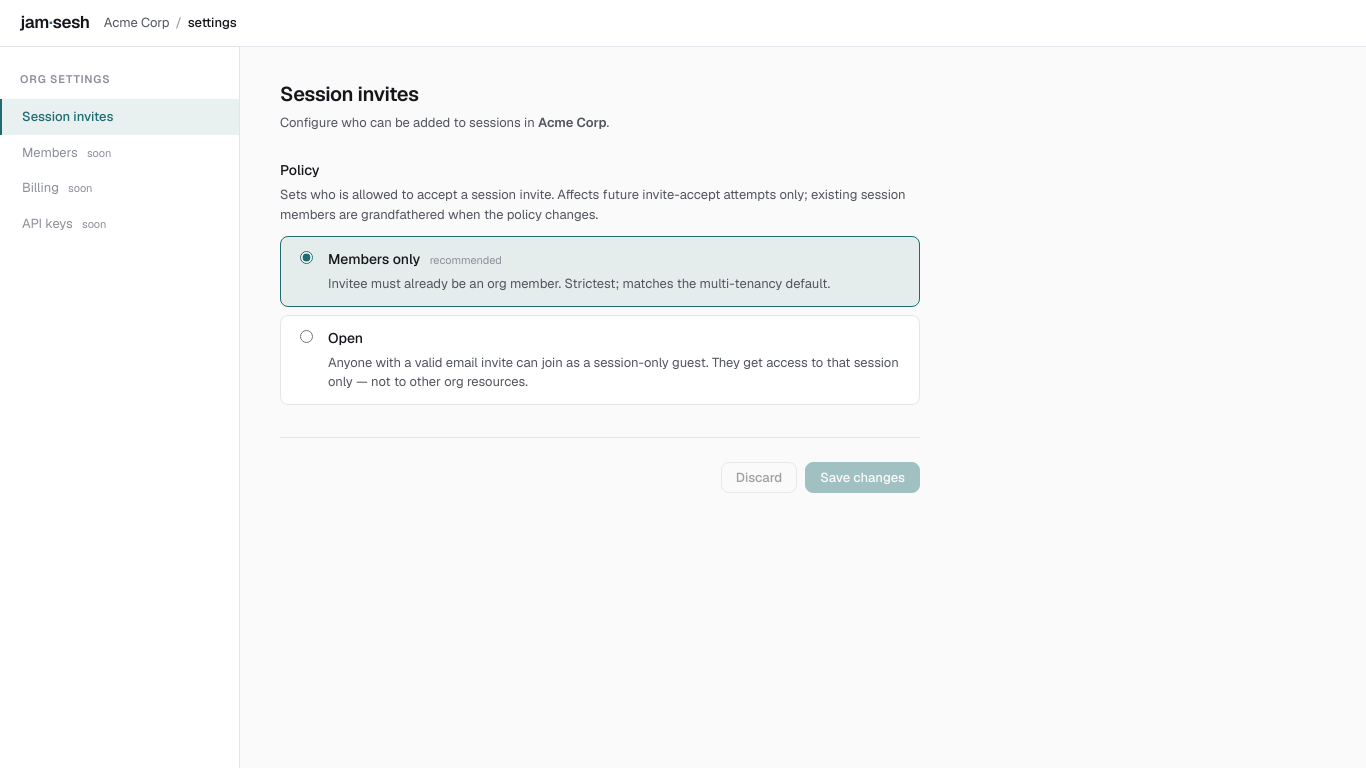
it: OrgSettings › Save error surfaces in banner
Expected: the heading "Session invites" is shown, top-left (280, 80), bottom-right (419, 106)
# Flip to open to make dirty
Click the radio button labelled "Open" at {"x": 306, "y": 336}, box top-left (300, 330), bottom-right (313, 342)
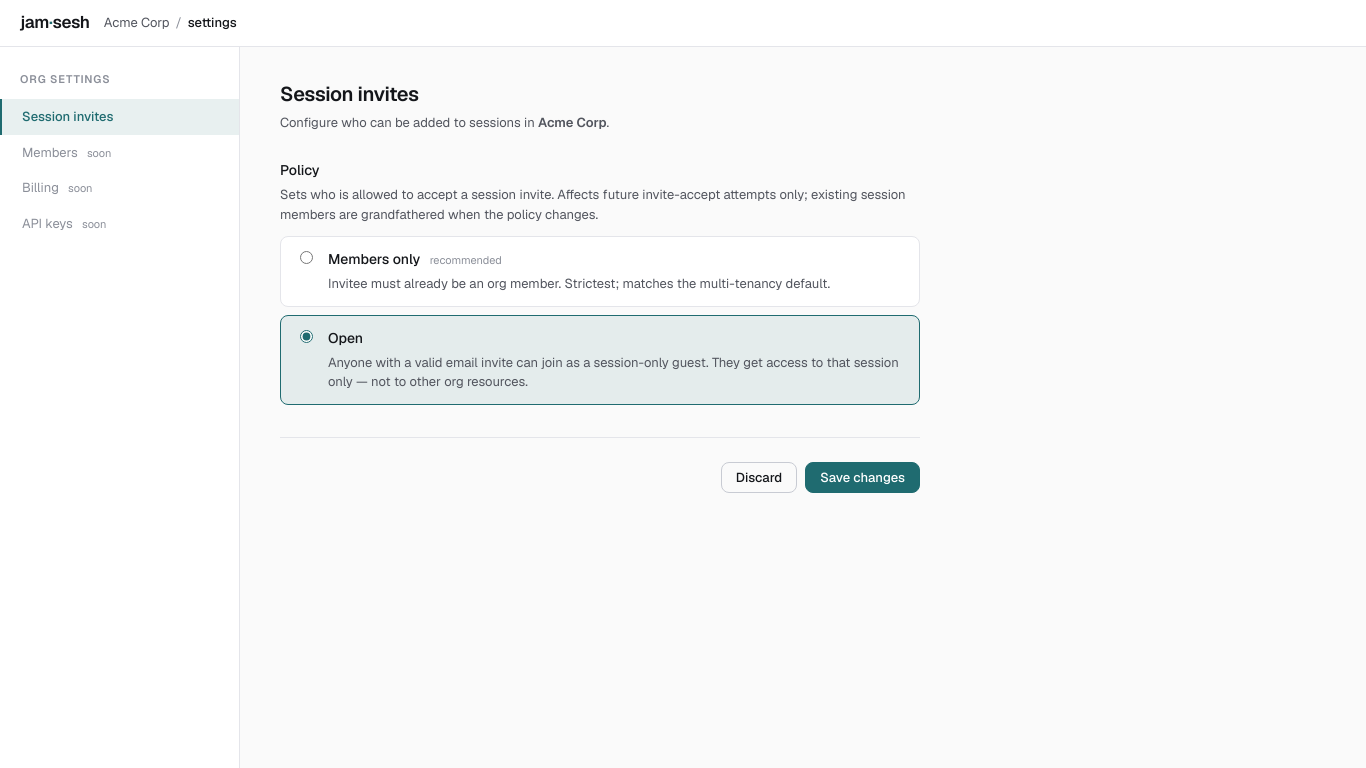
Click the button "Save changes" at {"x": 863, "y": 477}, box top-left (805, 462), bottom-right (920, 492)
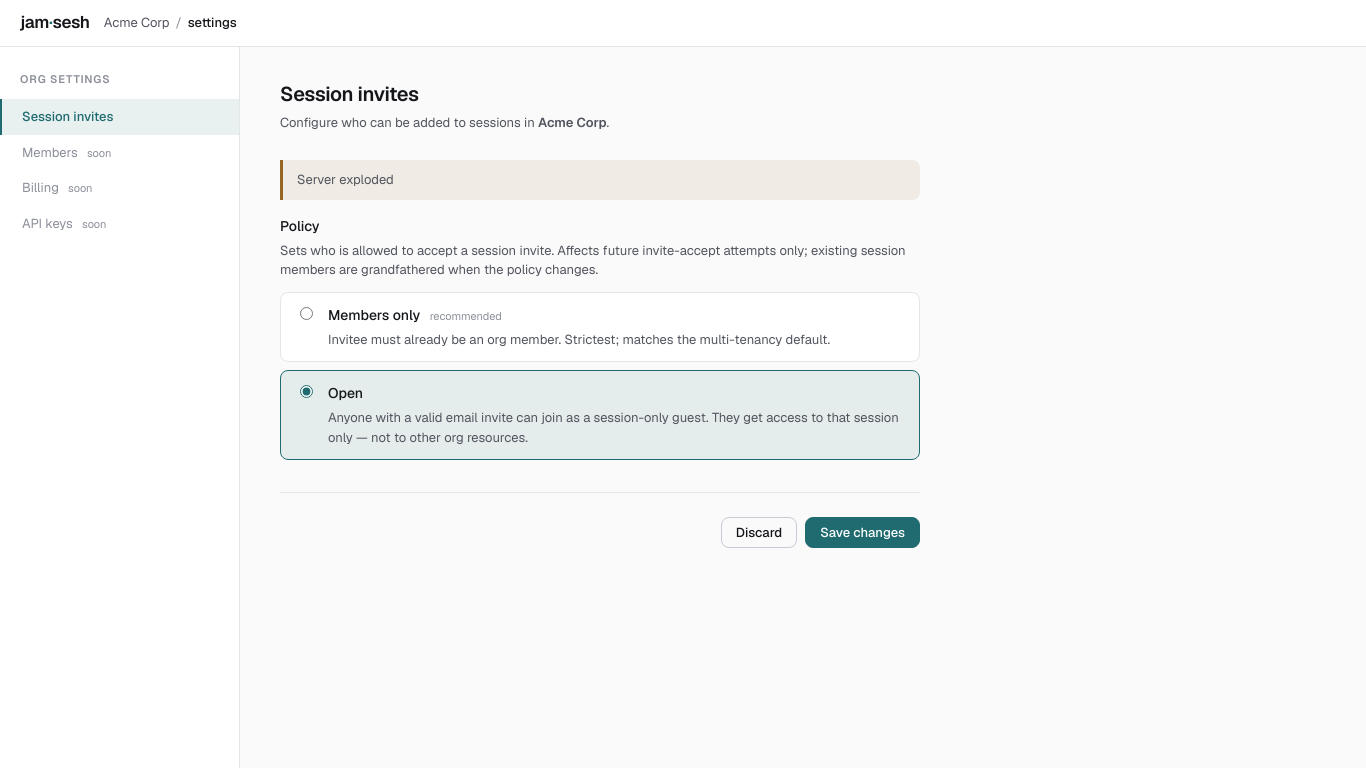
Now the text "Server exploded" is shown, box top-left (280, 160), bottom-right (920, 200)
